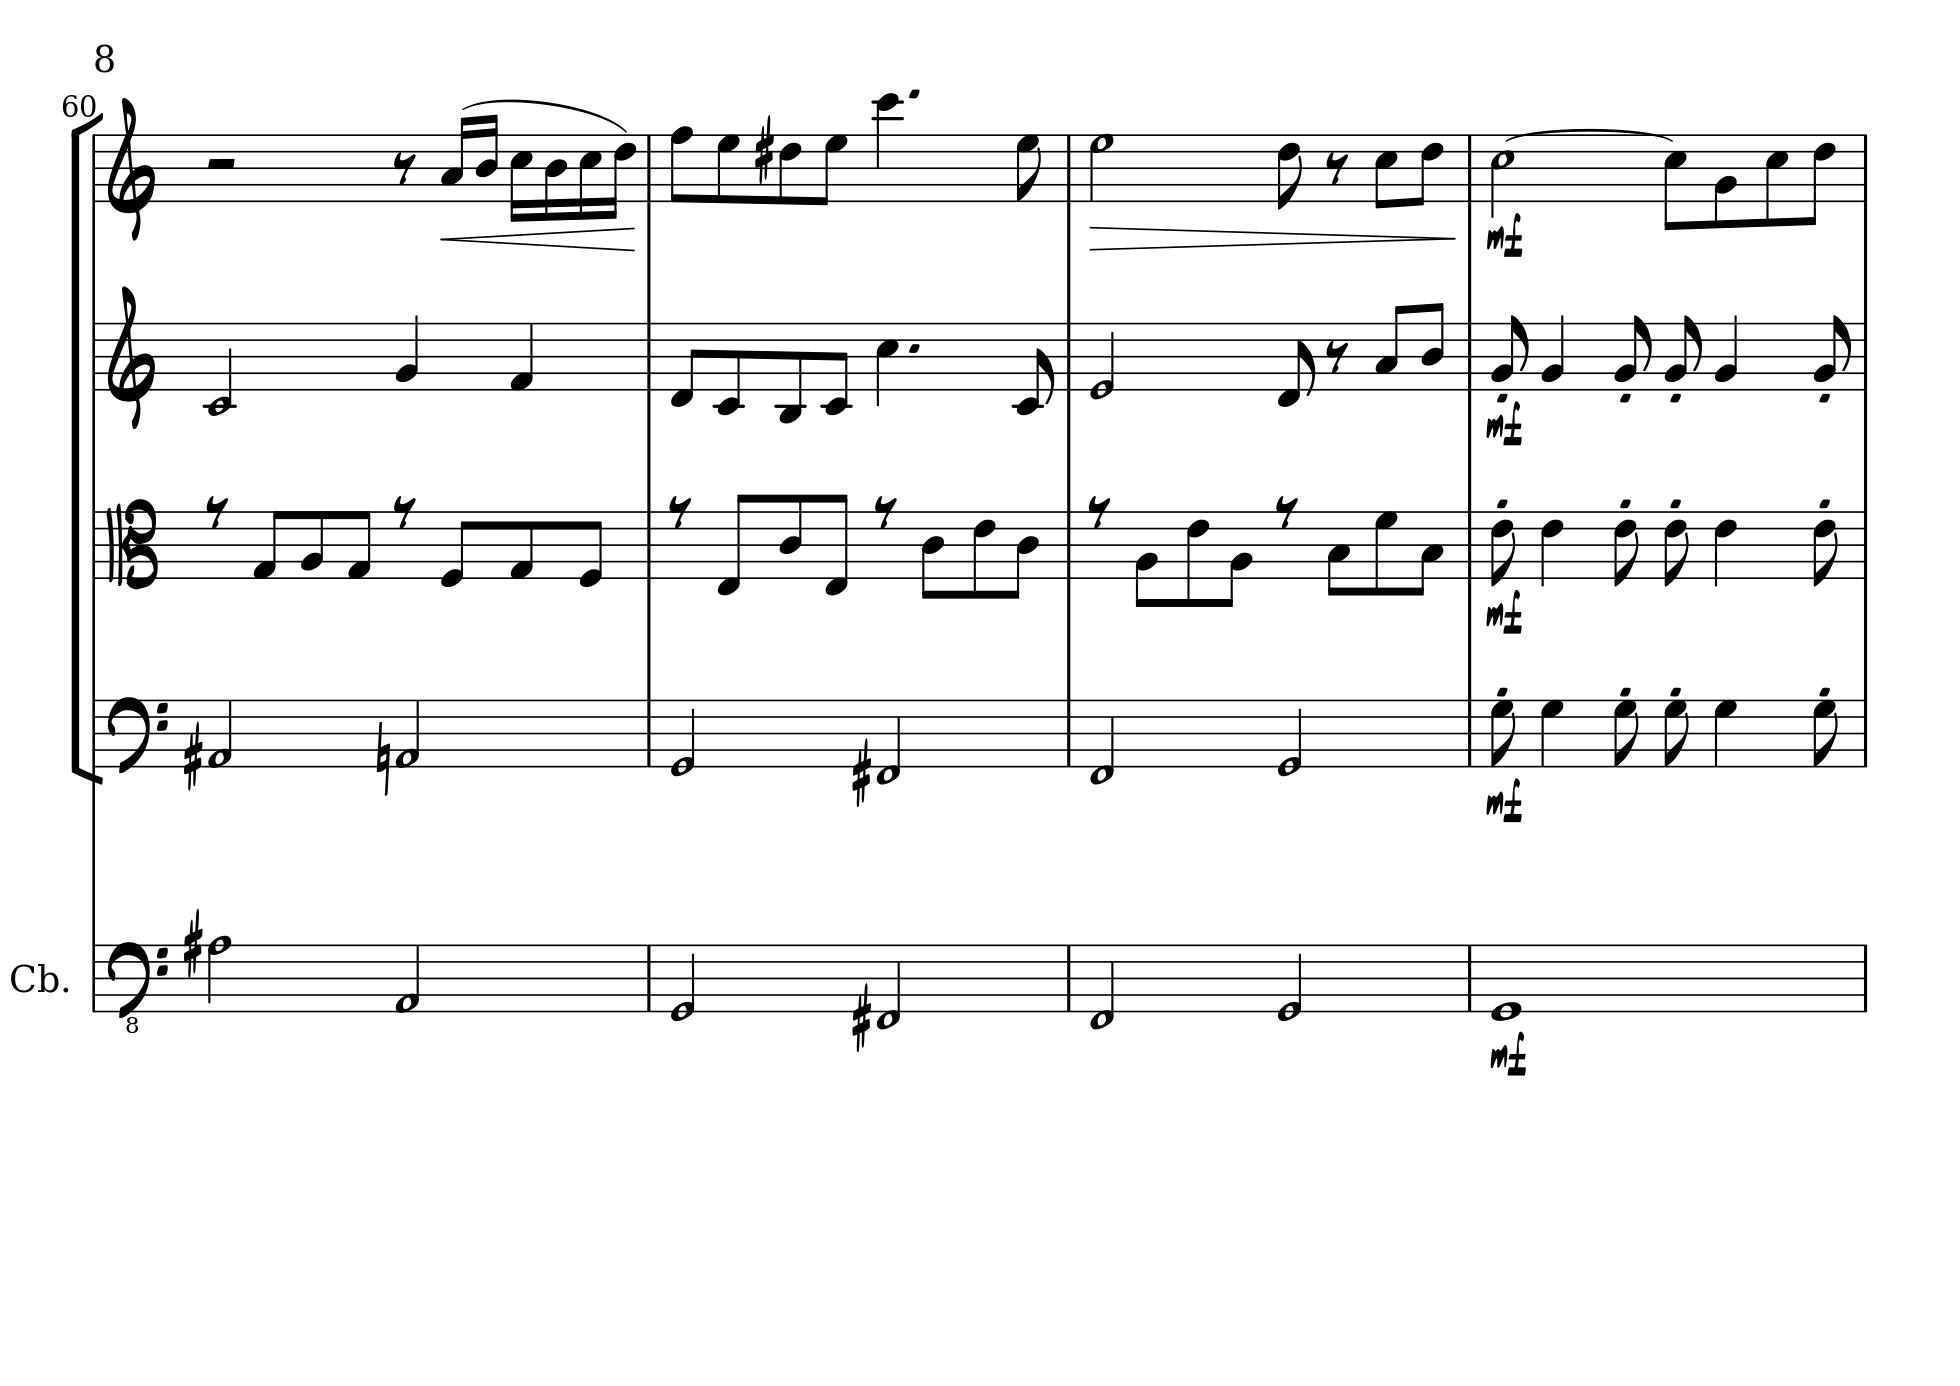0: (79, 91, 96, 118)
16_3: (439, 114, 471, 202)
16_4: (474, 112, 499, 204), (543, 132, 568, 223)
16_5: (508, 132, 534, 223), (577, 132, 603, 220)
16_6: (604, 132, 637, 219)
1_0: (1491, 939, 1522, 1023)
2_-1: (1089, 940, 1116, 1030), (1089, 696, 1116, 784), (874, 942, 901, 1029), (876, 697, 901, 784)
2_-2: (204, 319, 235, 418)
2_0: (1086, 319, 1117, 403), (1276, 696, 1305, 777), (669, 696, 696, 777), (669, 942, 696, 1021), (1278, 940, 1303, 1021)
2_1: (207, 697, 234, 769), (394, 697, 421, 769), (394, 942, 421, 1014)
2_5: (1489, 130, 1515, 219)
2_7: (1089, 132, 1116, 204)
2_8: (205, 934, 231, 1015)
4_1: (507, 321, 535, 391)
4_12: (871, 91, 903, 204)
4_2: (1713, 313, 1741, 394), (394, 313, 421, 393), (1539, 313, 1566, 393)
4_5: (873, 321, 900, 409)
4_6: (1537, 508, 1567, 589), (1713, 507, 1740, 586)
4_7: (1539, 696, 1566, 769), (1713, 694, 1740, 765)
6: (61, 91, 79, 118)
8: (93, 40, 115, 73)
8_-1: (714, 490, 754, 597), (1276, 321, 1317, 409), (820, 490, 850, 597), (667, 321, 702, 409)
8_-2: (1009, 319, 1057, 415), (709, 319, 744, 417), (820, 319, 852, 417)
8_-3: (774, 321, 805, 424)
8_0: (438, 508, 474, 589), (576, 508, 604, 588)
8_1: (252, 508, 285, 580), (505, 508, 535, 580), (345, 508, 372, 580)
8_2: (1809, 313, 1854, 391), (1662, 313, 1702, 391), (1611, 313, 1650, 391), (1224, 508, 1254, 609), (1488, 313, 1527, 390), (1713, 132, 1740, 229), (1134, 508, 1159, 610), (300, 508, 325, 580)
8_3: (1411, 508, 1446, 598), (1374, 304, 1407, 391), (1326, 508, 1353, 598)
8_4: (1006, 508, 1041, 600), (919, 508, 946, 601), (777, 490, 804, 577), (1420, 301, 1446, 391)
8_5: (1662, 133, 1689, 232), (1762, 130, 1789, 229), (1374, 132, 1399, 210)
8_6: (1804, 130, 1837, 228), (1182, 508, 1212, 610), (967, 508, 996, 601), (1413, 132, 1446, 208), (1488, 508, 1518, 589), (1276, 132, 1305, 211), (1812, 508, 1840, 588), (1612, 508, 1641, 586), (1662, 508, 1690, 586), (778, 130, 802, 205)
8_7: (816, 132, 850, 205), (1371, 508, 1399, 597), (1812, 694, 1845, 766), (1612, 697, 1641, 769), (1015, 133, 1044, 202), (1489, 697, 1516, 768), (1662, 697, 1689, 768), (715, 132, 741, 204)
8_8: (667, 124, 694, 205)
Bracke: (66, 117, 106, 784)
Cb: (7, 958, 60, 999)
Cclef: (105, 496, 157, 589)
Crescendo_hairpin: (441, 226, 636, 252)
Diminuendo_hairpin: (1089, 226, 1458, 250)
Fclef: (106, 694, 169, 777)
Gclef: (106, 280, 157, 429), (106, 94, 156, 241)
Lower_Fclef: (103, 937, 169, 1033)
Natural: (373, 718, 391, 795)
Rests2: (202, 153, 240, 172)
Rests8: (204, 490, 232, 526), (391, 150, 418, 186), (391, 493, 418, 528), (1324, 339, 1350, 375), (1324, 151, 1350, 186), (667, 495, 693, 529), (873, 495, 898, 529), (1087, 493, 1113, 528), (1275, 495, 1300, 528)
Sharp: (753, 115, 775, 184), (849, 739, 871, 808), (181, 907, 202, 979), (181, 721, 202, 790), (850, 985, 871, 1053)
Single_barline: (640, 135, 658, 202), (1062, 135, 1080, 202), (85, 510, 103, 577), (1060, 322, 1078, 388), (640, 511, 658, 577), (85, 700, 102, 769), (1857, 322, 1873, 390), (85, 322, 102, 390), (1857, 510, 1873, 577), (640, 699, 657, 766), (1857, 699, 1873, 766), (640, 322, 657, 388), (1857, 943, 1873, 1009), (1462, 511, 1479, 576), (87, 133, 102, 201), (1062, 510, 1077, 577), (1062, 699, 1077, 766), (642, 945, 657, 1011), (1062, 945, 1077, 1011), (1464, 136, 1479, 201), (1462, 945, 1477, 1009), (1462, 700, 1477, 763), (1858, 133, 1872, 202), (1464, 322, 1477, 388), (87, 945, 100, 1009)
Slur: (460, 96, 627, 133), (1503, 126, 1674, 144)
dot: (904, 340, 922, 355), (906, 85, 921, 100)
mf: (1485, 211, 1527, 261), (1483, 399, 1525, 448), (1485, 586, 1524, 636), (1485, 775, 1524, 825), (1491, 1030, 1530, 1078)
